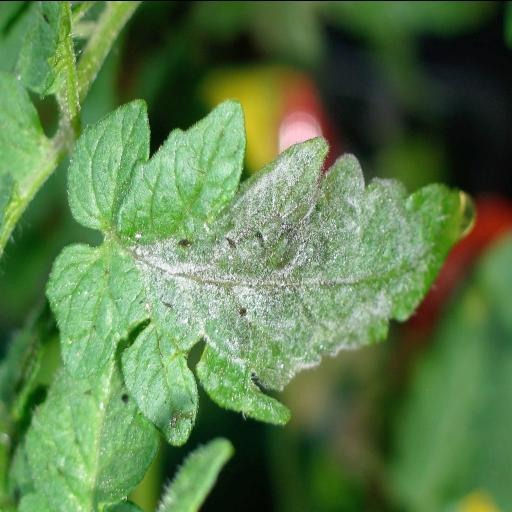Late Blight: (45, 102, 481, 442)
